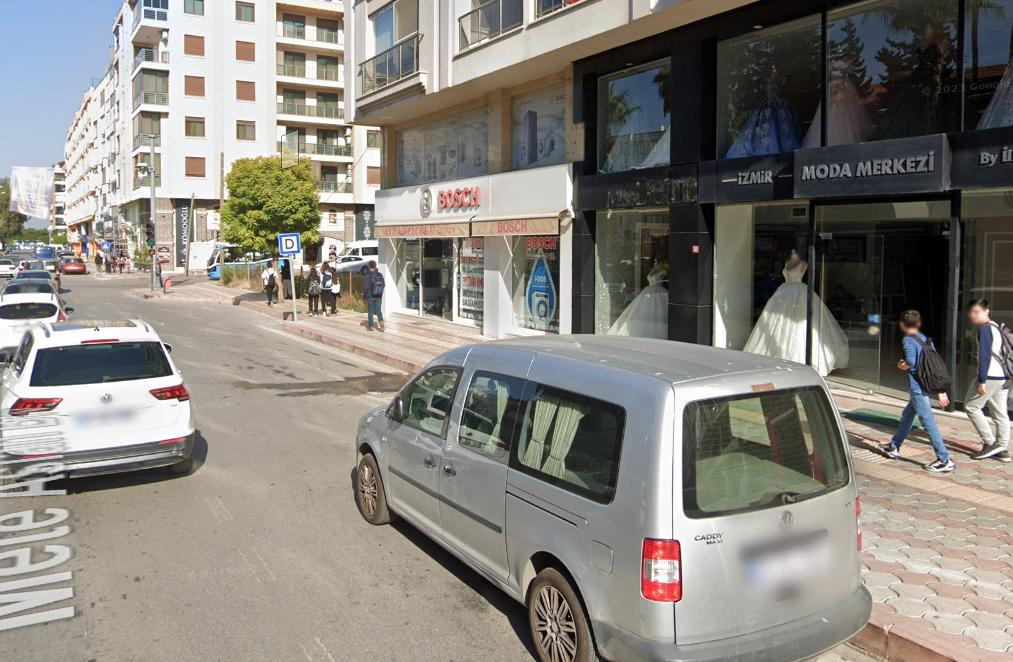station: (281, 235, 299, 252)
